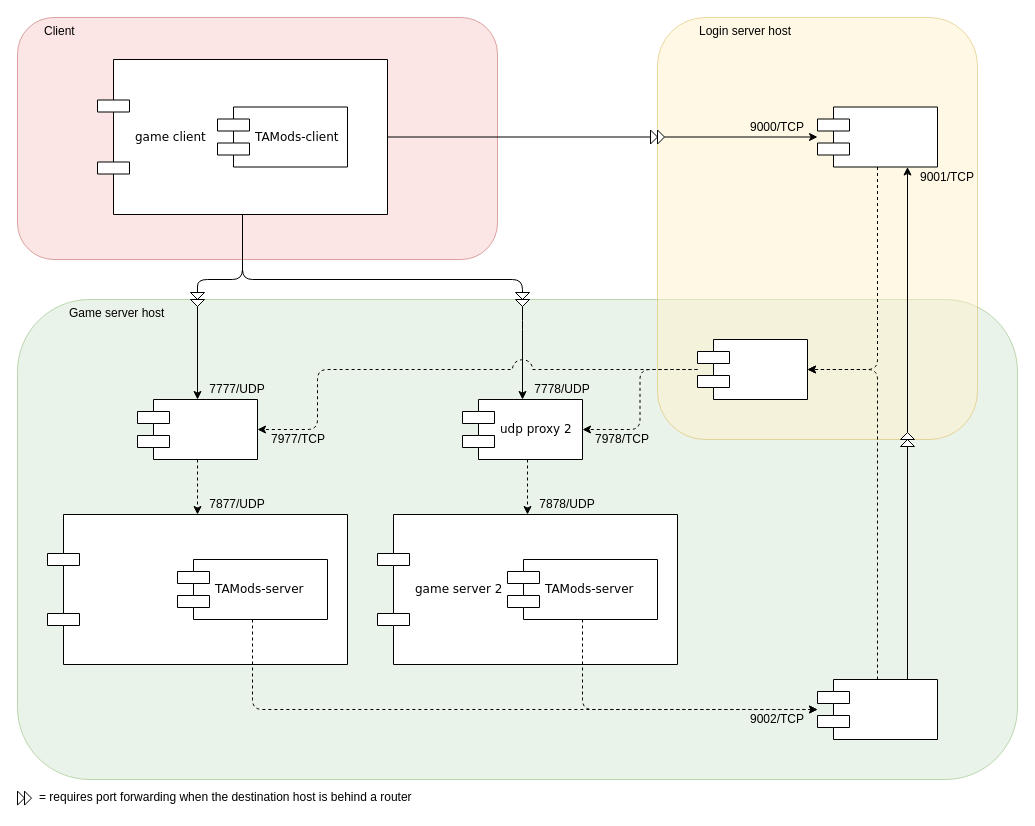
This 1035x826 diagram has some shape labels left out. The box of each missing label's shape, as (x1, y1, x2, y2) in pixels:
game server 1: (46, 514, 348, 664)
launcher: (816, 678, 938, 740)
login server: (816, 106, 938, 167)
taserver firewall: (696, 338, 808, 400)
udp proxy 1: (136, 398, 258, 460)
